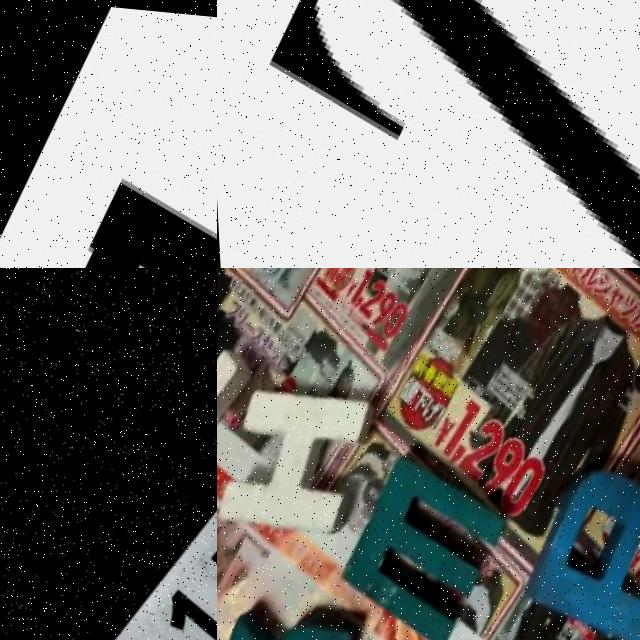1: (18, 70, 217, 268), (129, 571, 217, 640)
5: (176, 508, 217, 620)
H: (217, 337, 388, 565)
K: (217, 557, 376, 640)
M: (322, 427, 514, 640)
P: (509, 432, 640, 640)
Z: (238, 0, 640, 268), (217, 268, 280, 497)
